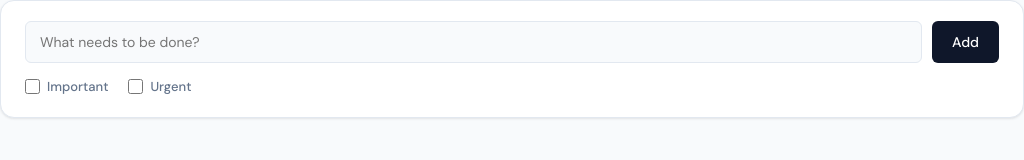
Test: TaskForm quadrant preview › should show Q2 · Schedule when only important is checked
The width and height of the screenshot is (1024, 160).
Click the checkbox labelled "Important": (32, 87) [25,79,40,94]
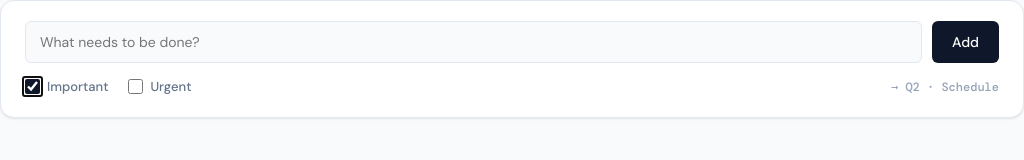
Now the text "→ Q2 · Schedule" is shown, box [891,78,999,96]
